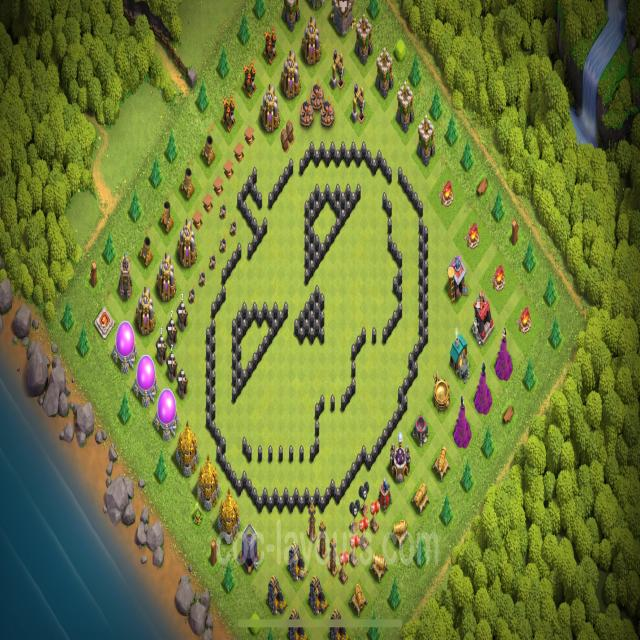air_defense: (240, 59, 257, 100), (220, 94, 237, 133), (262, 27, 277, 65)
air_sweeper: (378, 476, 392, 513)
archer_tower: (396, 78, 415, 136), (416, 114, 436, 168), (375, 44, 394, 100), (354, 12, 373, 68)
army_camp: (438, 178, 457, 210), (491, 262, 507, 295), (516, 304, 532, 335), (465, 220, 480, 250)
barracks: (444, 252, 469, 304)
builders_hut: (166, 317, 178, 349), (177, 367, 188, 399), (176, 300, 187, 330), (166, 350, 177, 380), (155, 336, 166, 363)
cannon: (390, 514, 410, 552), (432, 444, 451, 482), (348, 581, 368, 617), (411, 480, 430, 517), (369, 549, 388, 582)
dark_barracks: (472, 289, 494, 344)
dark_elixir_drill: (329, 46, 346, 94), (350, 82, 368, 125)
dark_elixir_storage: (238, 525, 260, 573), (308, 575, 328, 613)
dark_spell_factory: (412, 412, 429, 448)
elixir_collector: (280, 49, 301, 102), (302, 16, 322, 68), (260, 84, 280, 134), (177, 220, 197, 270), (156, 254, 176, 304)
elixir_storage: (154, 387, 179, 441), (134, 353, 159, 406), (114, 321, 136, 375), (134, 287, 156, 338)
gold_mine: (264, 574, 287, 616)
gold_storage: (217, 491, 241, 549), (176, 422, 199, 476), (197, 456, 220, 509)
laboratory: (389, 434, 411, 484)
mortar: (158, 198, 176, 238), (200, 132, 217, 169), (178, 167, 196, 201), (137, 234, 154, 269)
spell_factory: (431, 369, 451, 412)
wizard_tower: (453, 399, 472, 450), (473, 366, 492, 416), (495, 333, 512, 384)
